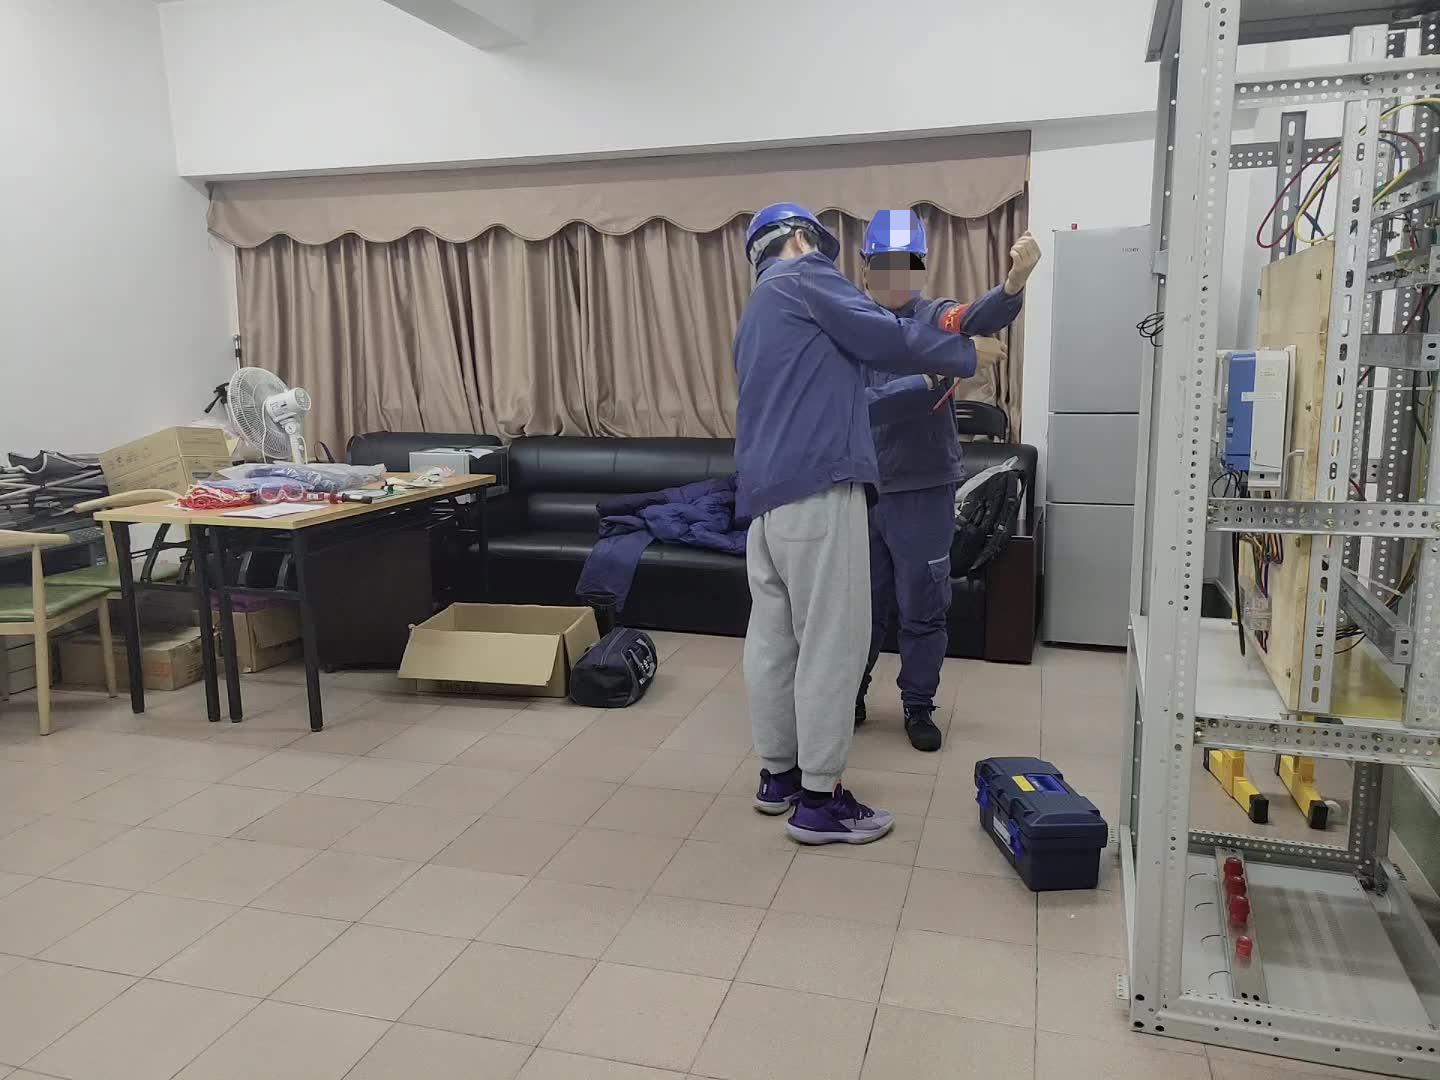halt: (859, 210, 934, 306), (742, 204, 832, 277)
